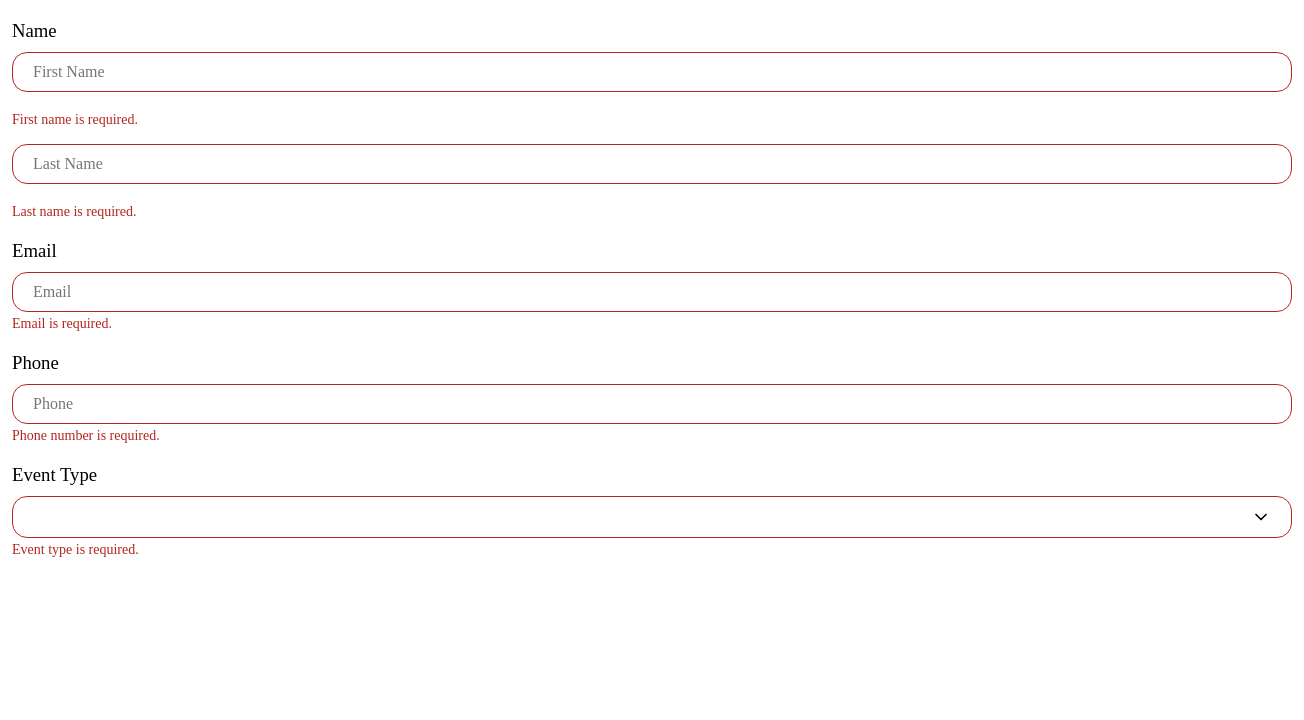
Test: Information step — field validation › First Name › clears the error when a valid first name is entered
Expected: the text "First name is required." is shown, [12,112,138,127]
In the field with placeholder "First Name": (652, 72) [12,52,1292,92], type "Jane"
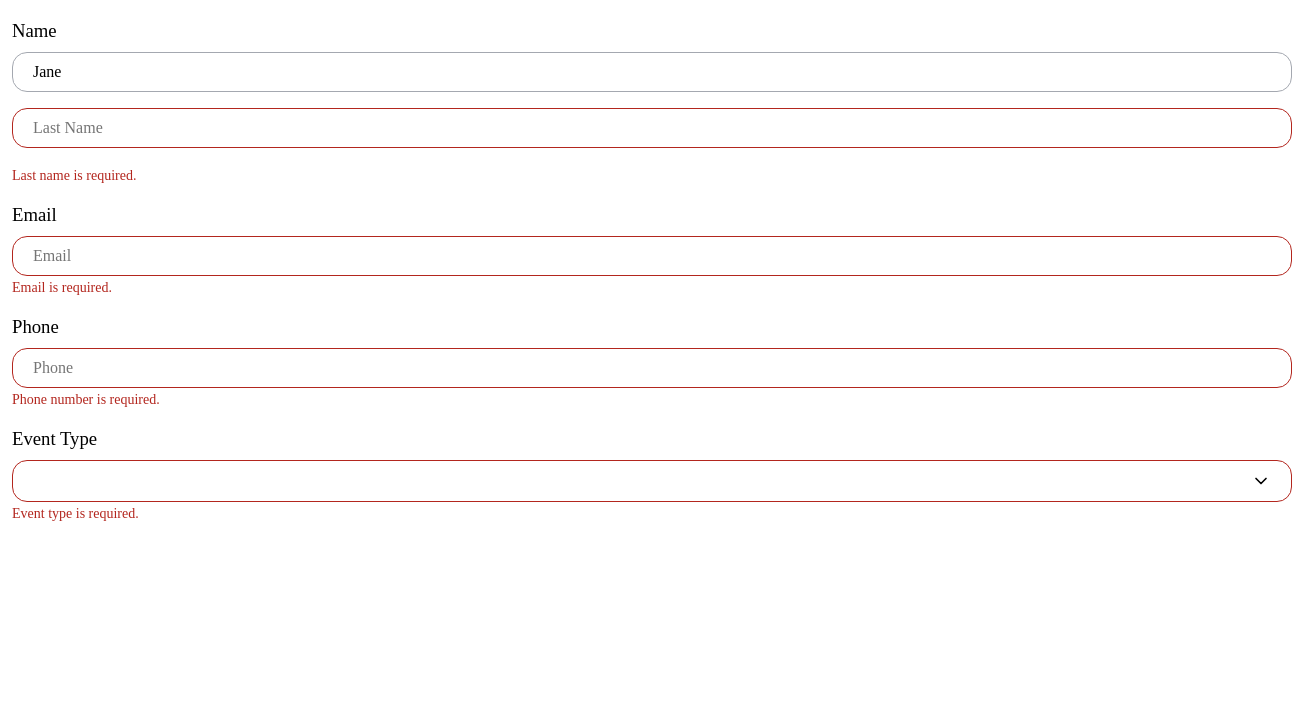
Expected: the text "First name is required." is gone
